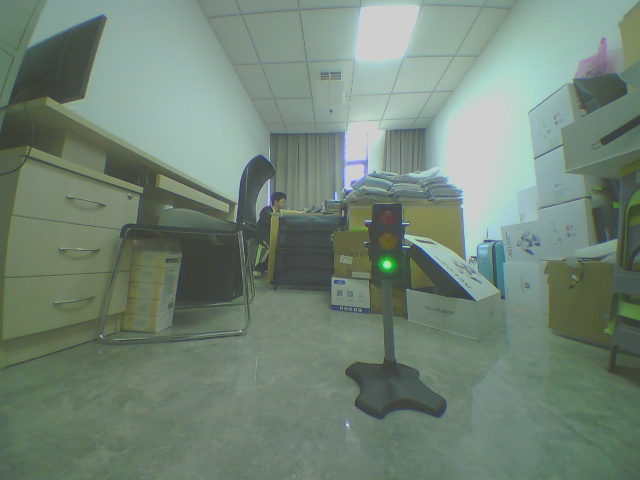Green: (364, 202, 425, 295)
